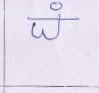anusvara: (51, 3, 62, 11)
